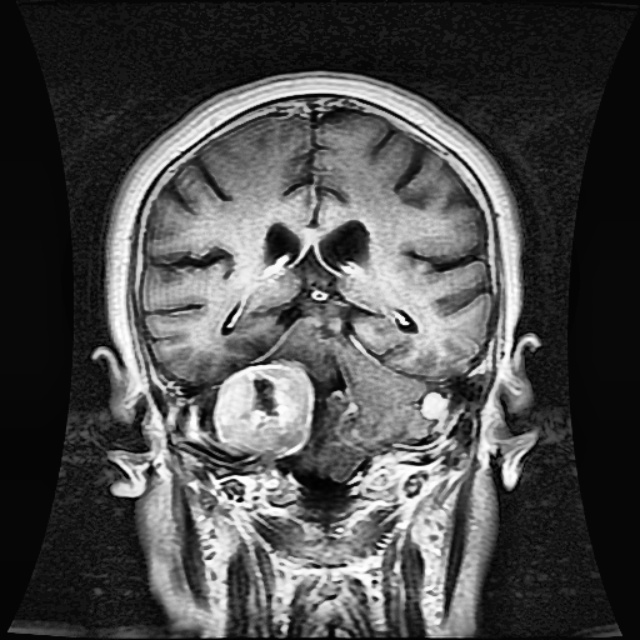Glioma: (212, 362, 312, 457)
